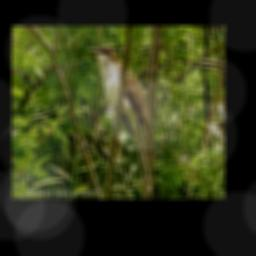Cuckoo: (89, 45, 152, 193)
